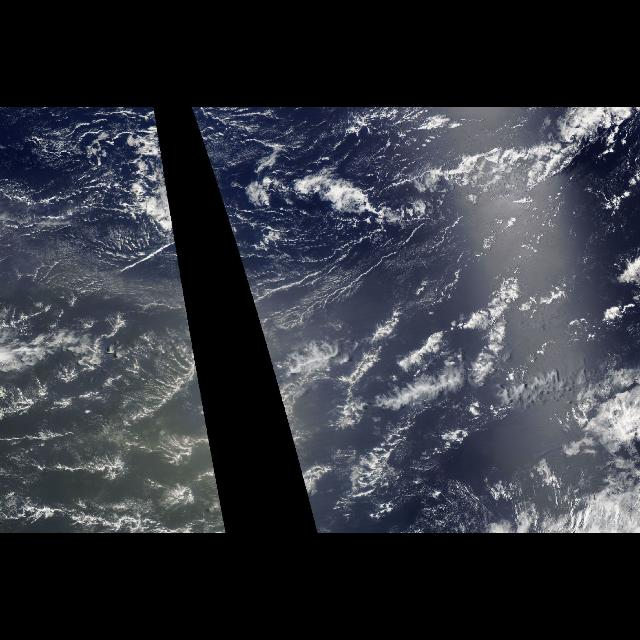Fish: (248, 289, 532, 509), (35, 289, 222, 509)
Sugar: (228, 225, 500, 331), (20, 225, 190, 331)
